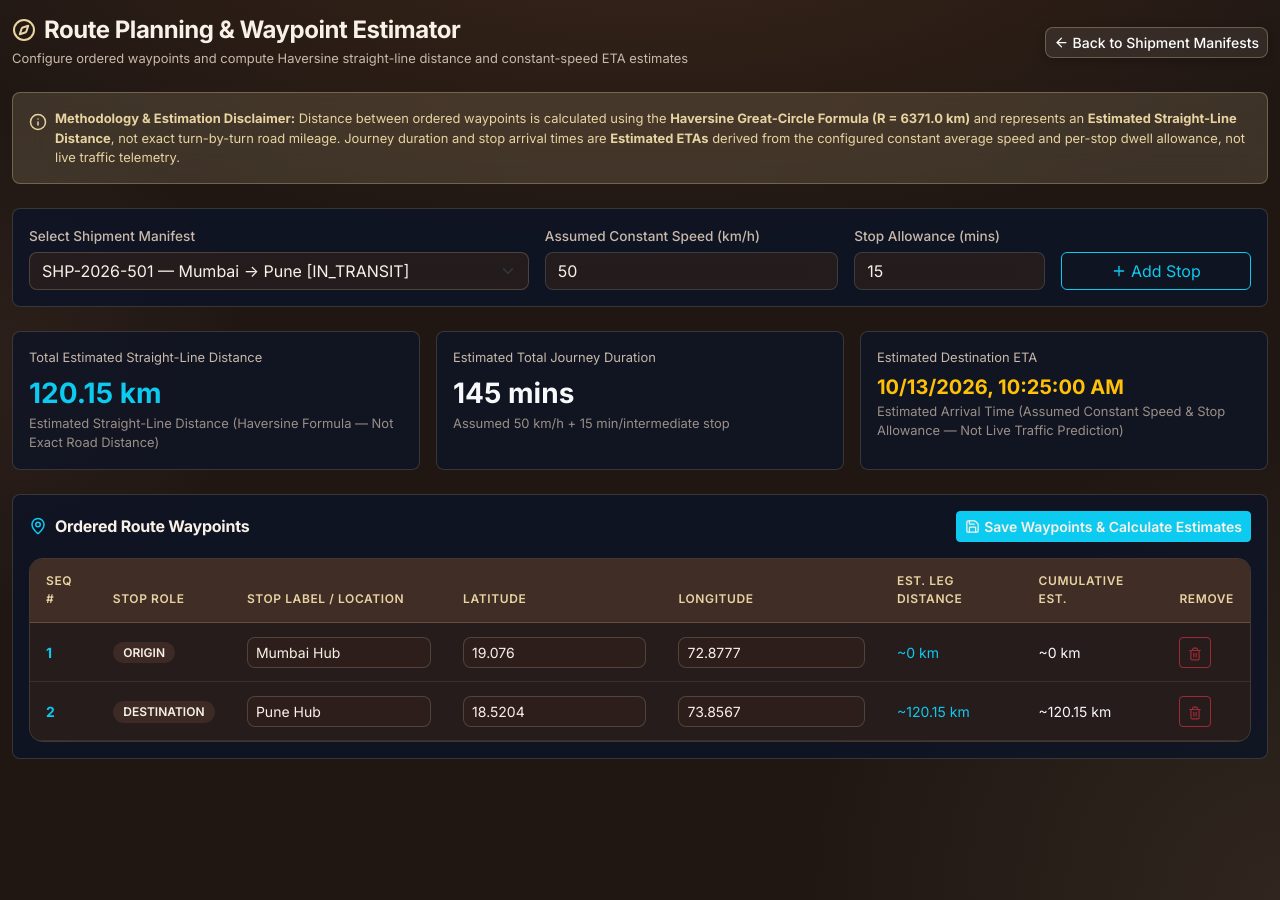
Scenario: Module 4 — Shipment & Route Management Components › renders WaypointsPage with Haversine distance & ETA estimation disclaimers and saves route
Expected: the text "Estimated Straight-Line Distance (Haversine Formula" is shown, [29,415,393,450]
What coordinates should you click on to do the following:
click the button "Save Waypoints & Calculate Estimates"
I would click on:
 (1104, 526)
Its box is [956,511,1251,542].
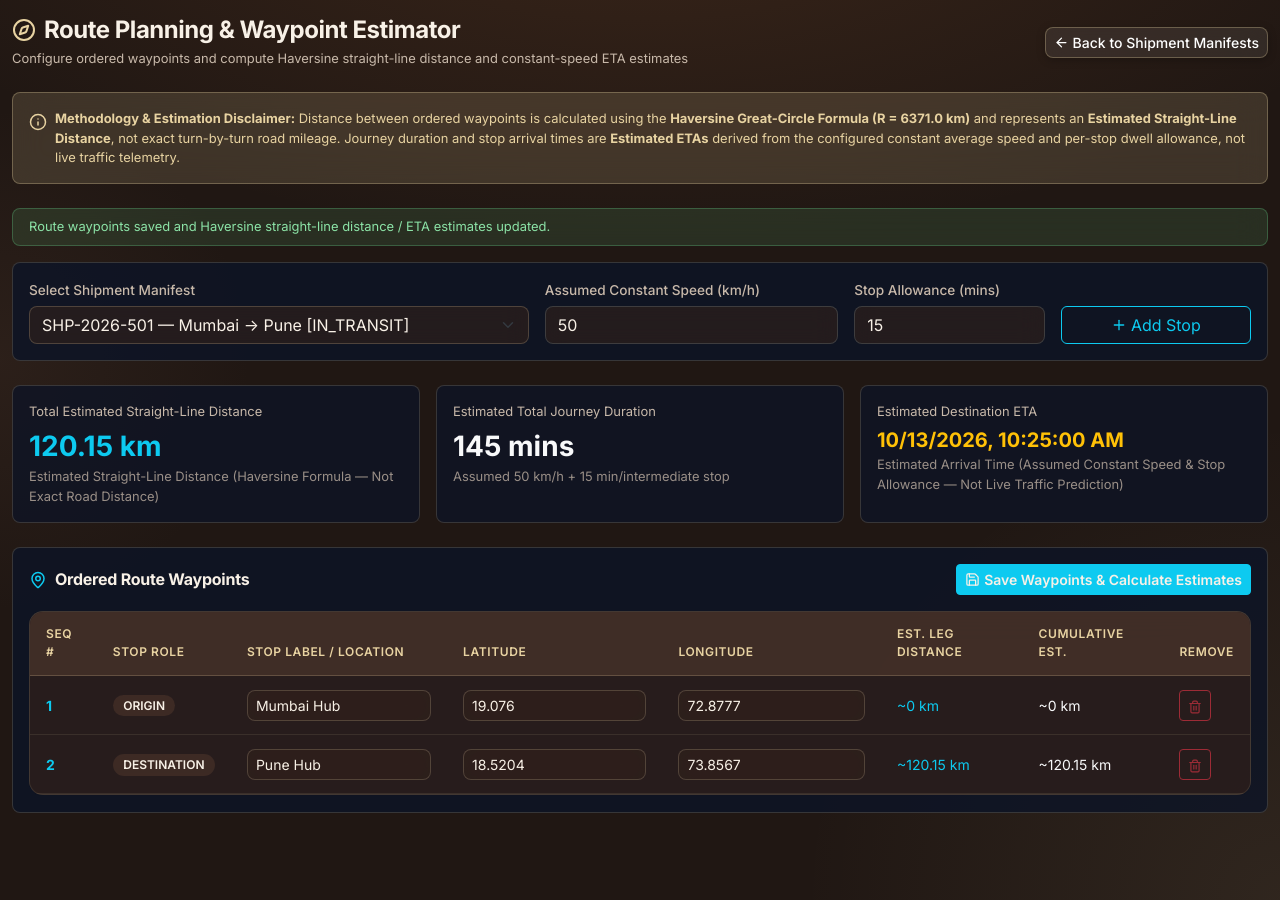
Now the text "Route waypoints saved and Haversine straight-line distance" is shown, box [29,218,550,234]
